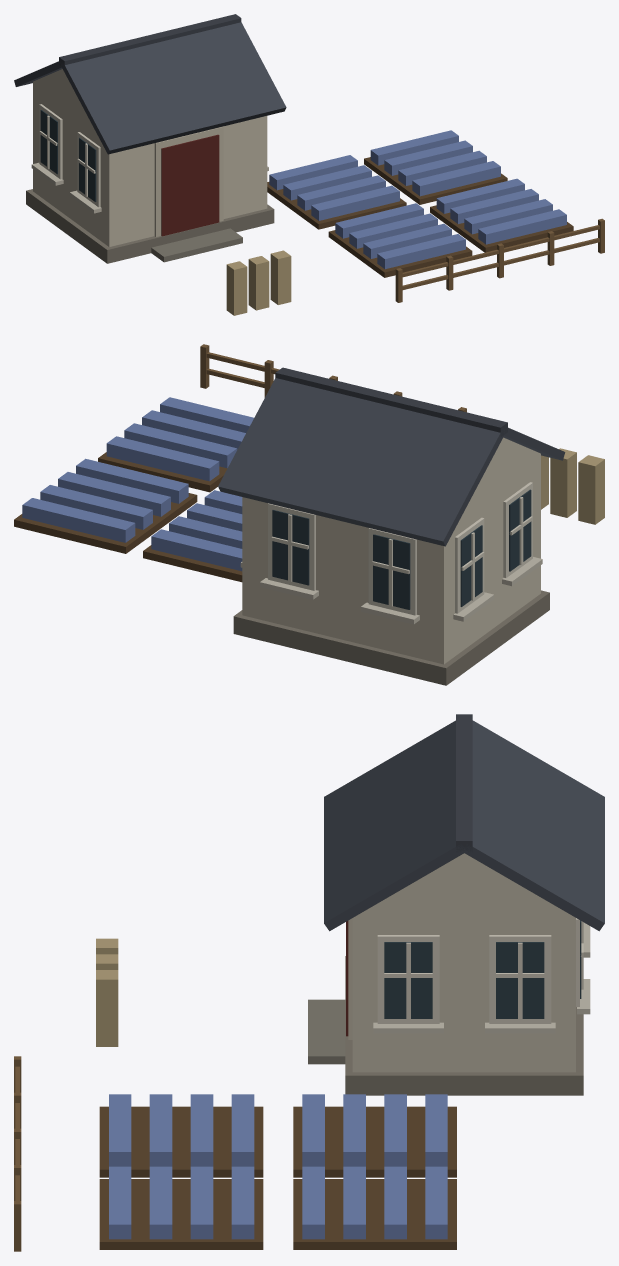
The model's file is procedural_flax_farm@5.glb.
3 views of the same model, one above another, from view 1: azimuth 30°, elevation 25°; view 2: azimuth 150°, elevation 25°; view 3: azimuth 270°, elevation 25° (orthographic). The views are drawn at different scales.
Visible parts, largest first — view 1: part_0; view 2: part_0; view 3: part_0.
Boxes of the visible parts, left/top/right/bottom form: part_0: left=14, top=14, right=604, bottom=315; part_0: left=14, top=344, right=604, bottom=685; part_0: left=14, top=714, right=604, bottom=1251.
Size of the model in its own units: 8.86 by 3.83 by 7.94.
